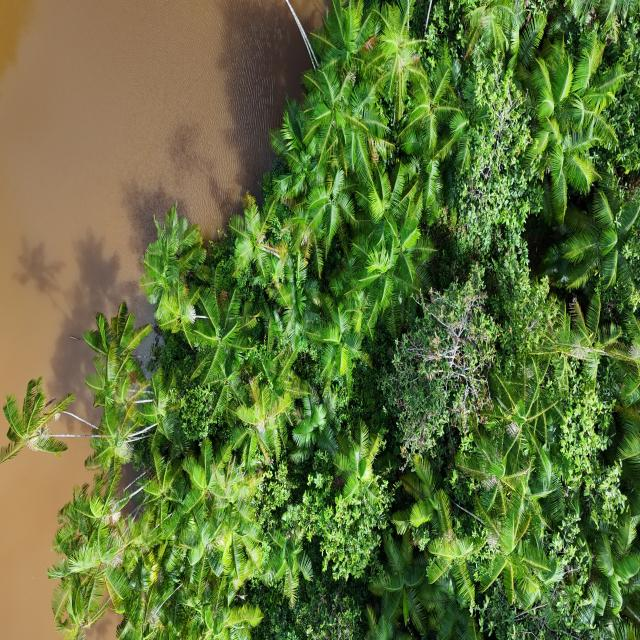vegetation: (2, 1, 638, 638)
